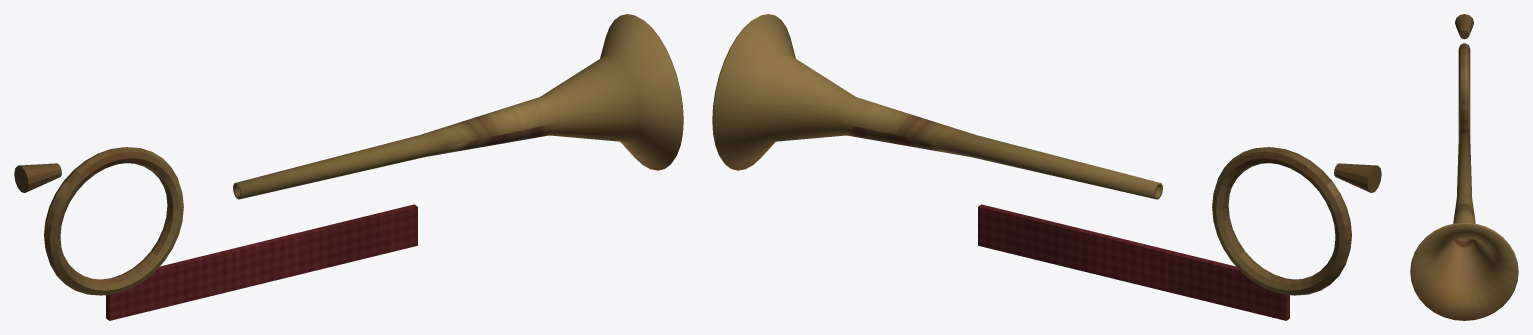
Rendered from MU16_Bugle.glb.
3 views of the same model, side by side, from view 1: azimuth 30°, elevation 25°; view 2: azimuth 150°, elevation 25°; view 3: azimuth 270°, elevation 25° (orthographic). The views are drawn at different scales.
Parts seen in each view (by area): view 1: MU16_Bugle; view 2: MU16_Bugle; view 3: MU16_Bugle.
Boxes of the visible parts, box(x1,y1,x2,y2) form: MU16_Bugle: box(14, 14, 683, 320); MU16_Bugle: box(712, 14, 1381, 320); MU16_Bugle: box(1410, 14, 1518, 320).
Bounding box in the file's own units: 0.4 × 0.1069 × 0.0891.
Materials: 2 (2 with a texture image).
